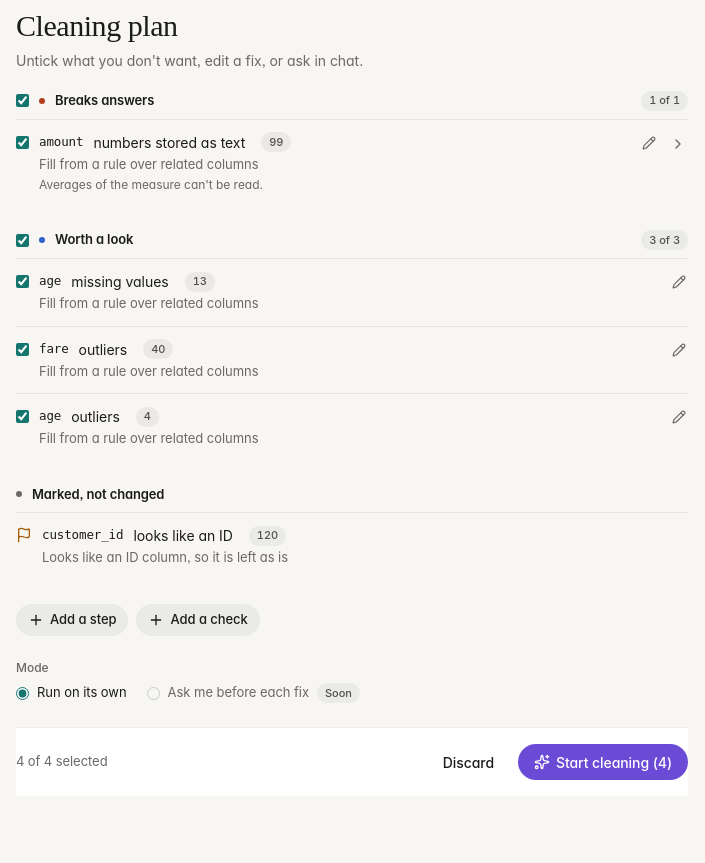
Test: editing the cleaning plan (PRD CLEAN-8b) › rewrites a fix in plain words, and Reset puts Sherlock's wording back
Click the button named "Rewrite the fix for age: missing values" at (679, 282), box [670,273,688,291]
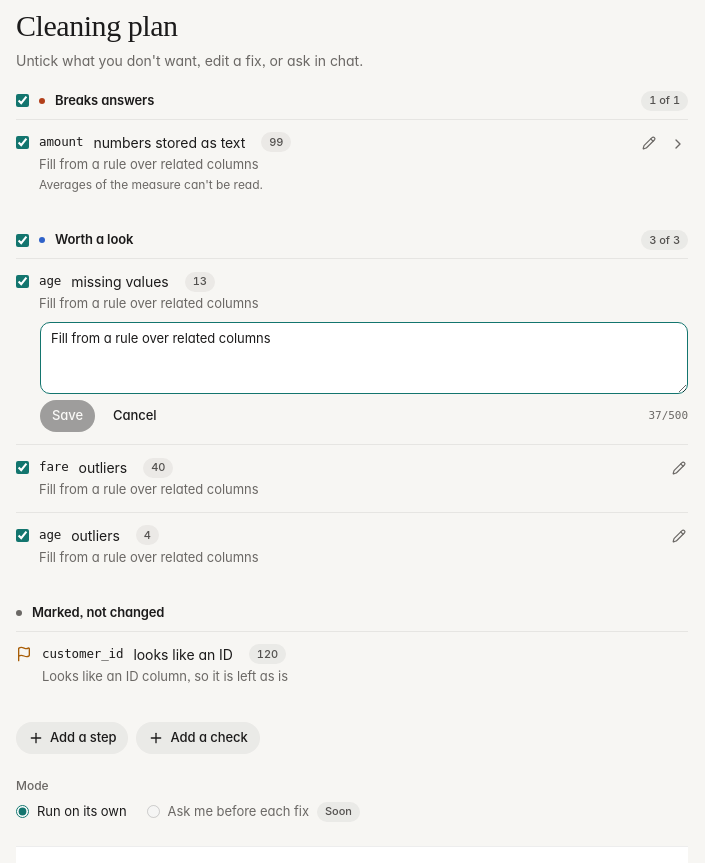
Result: the text box named "The fix, in plain words" holds "Fill from a rule over related columns"
Replace the text in the text box named "The fix, in plain words" with "Median age by class" at (364, 358), box [40,322,688,394]
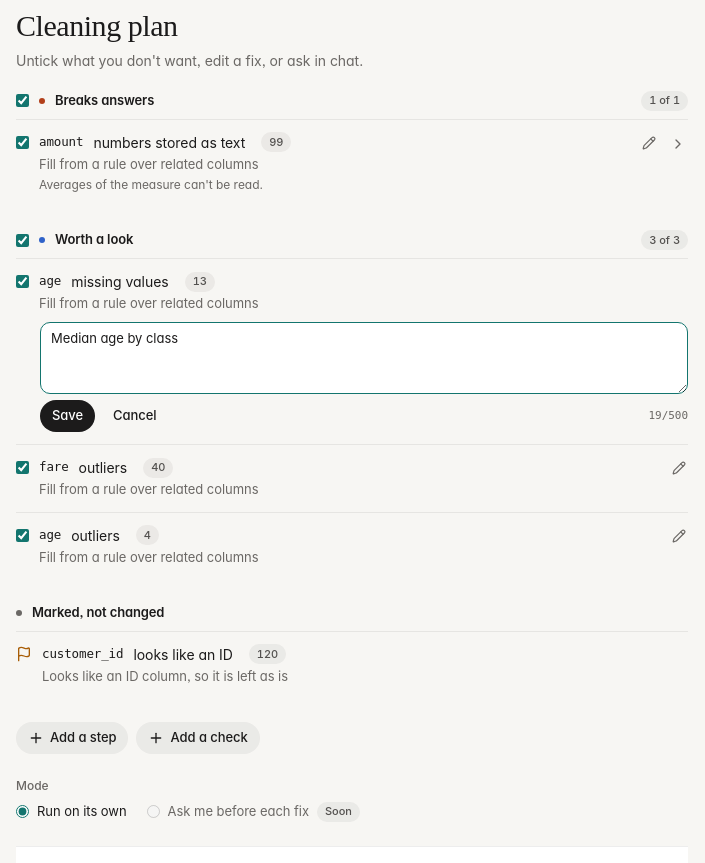
Click the button "Save" at (68, 416), box [40,400,95,432]
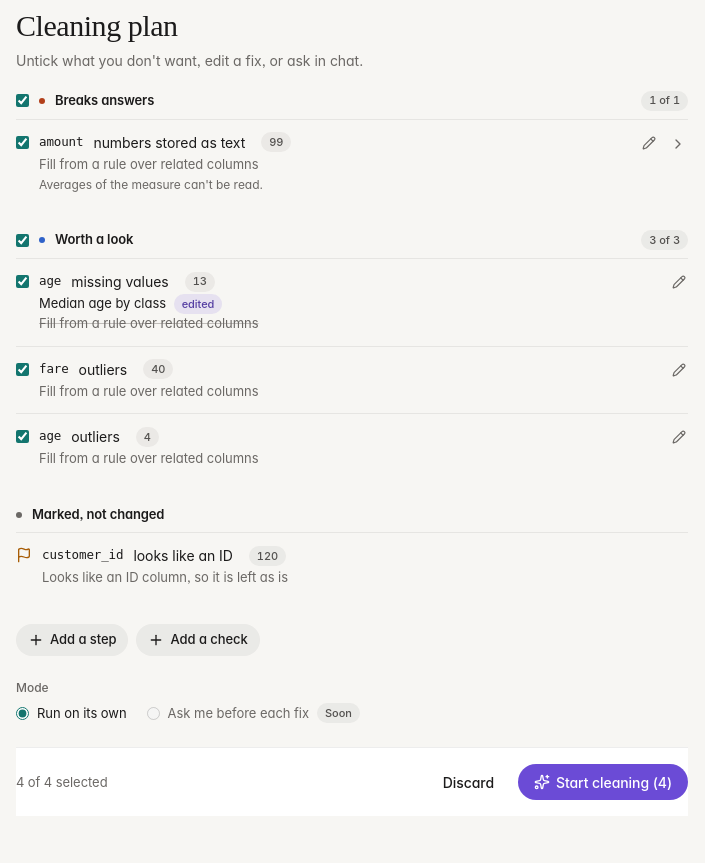
Result: the text "edited" is shown at [174,294,222,314]
Result: the text "Median age by class" is shown at [39,295,166,311]
Result: the button "Start cleaning (4)" is enabled at [518,764,688,800]
Click the button named "Rewrite the fix for age: missing values" at (679, 282), box [670,273,688,291]
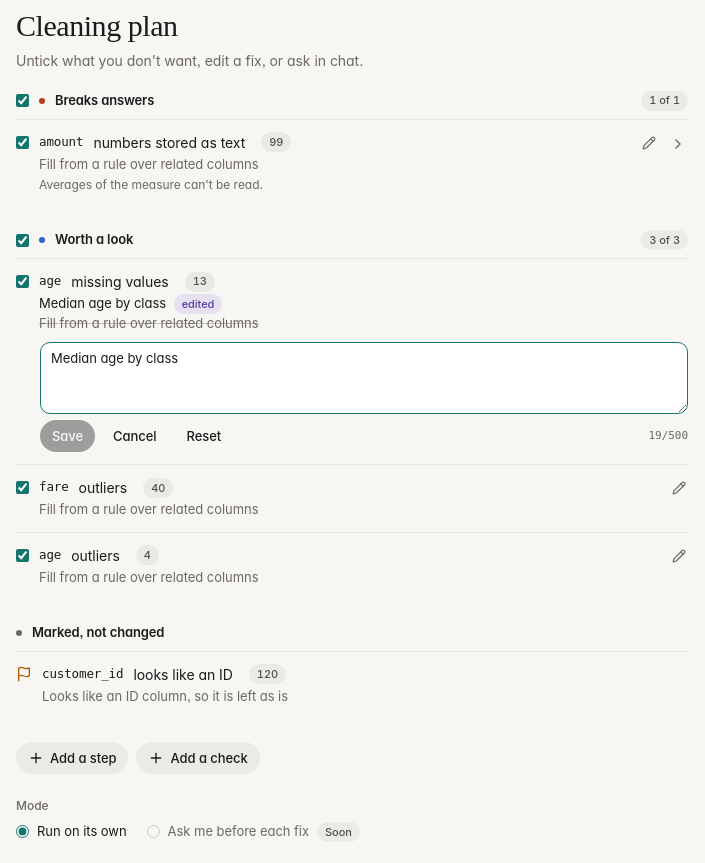
Click the button "Reset" at (204, 436), box [174,420,233,452]
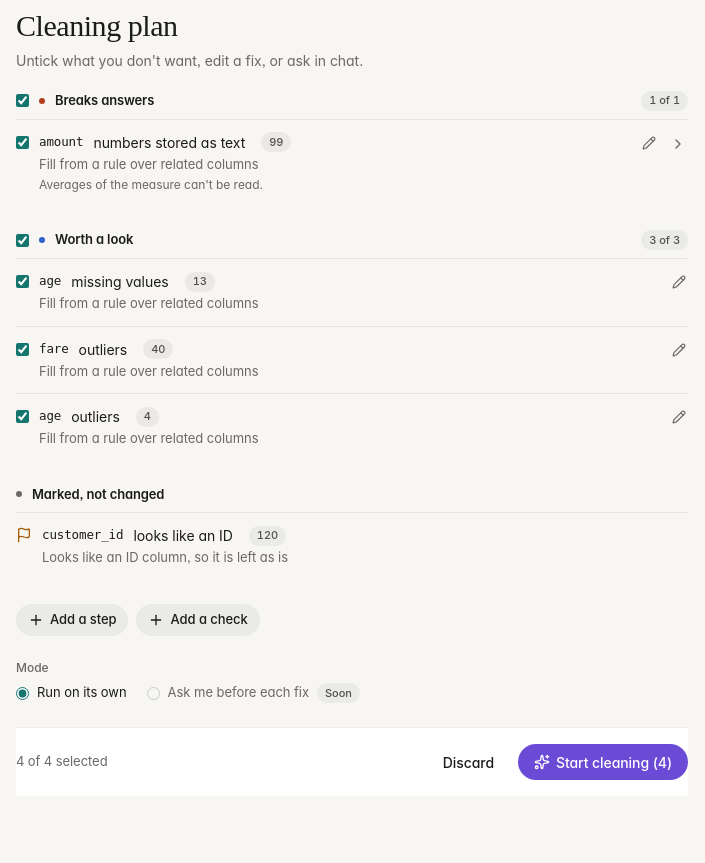
Result: the text "edited" is gone
